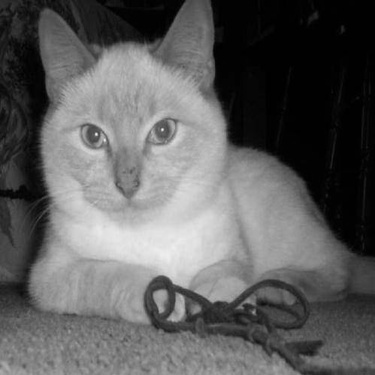cat: (11, 5, 371, 339)
